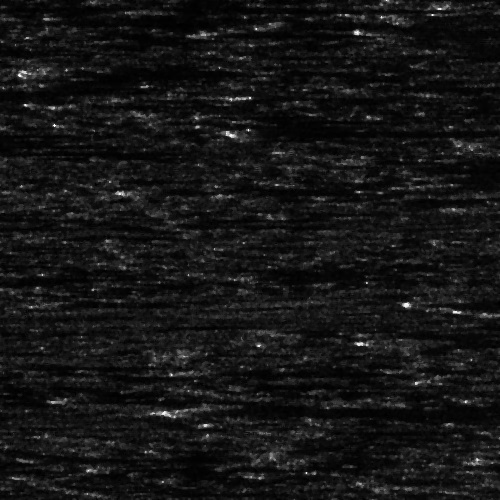object: (313, 326, 500, 351), (79, 179, 224, 194), (0, 63, 101, 80), (0, 11, 88, 26), (138, 405, 221, 414), (414, 180, 487, 189), (333, 26, 416, 33), (55, 393, 108, 402), (180, 29, 243, 36), (462, 307, 500, 316), (120, 6, 183, 11), (218, 125, 249, 132)
shadow: (152, 179, 398, 194), (0, 11, 227, 26), (81, 393, 443, 402), (44, 63, 225, 80), (180, 405, 500, 414), (407, 326, 500, 351), (0, 143, 143, 154), (234, 125, 423, 132), (151, 6, 399, 11), (0, 147, 196, 152), (212, 29, 338, 36), (0, 0, 36, 17), (375, 26, 440, 33), (450, 180, 500, 189)
